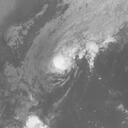cyclone: (46, 36, 81, 84)
